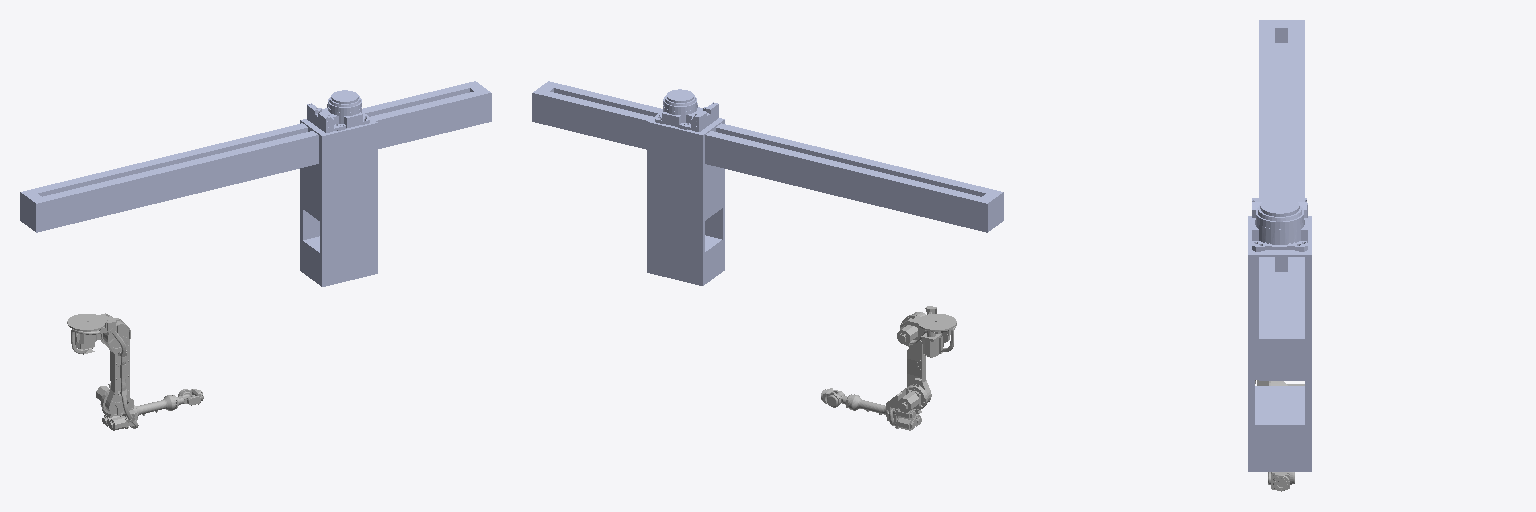
The robot description file, URDF, robot "urdf_shimizu_gantry":
<?xml version="1.0" encoding="utf-8"?>
<!-- This URDF was automatically created by SolidWorks to URDF Exporter! Originally created by [author] ([email redacted]) 
     Commit Version: 1.6.0-4-g7f85cfe  Build Version: 1.6.7995.38578
     For more information, please see http://wiki.ros.org/sw_urdf_exporter -->
<robot
  name="urdf_shimizu_gantry">
  <link
    name="structure">
    <inertial>
      <origin
        xyz="4.02864523689272 4.68594983260276 1.12811003412139"
        rpy="0 0 0" />
      <mass
        value="12293.2154089237" />
      <inertia
        ixx="64315.9848906651"
        ixy="4.72802642796216E-12"
        ixz="2.09421886683001E-13"
        iyy="45881.0476516664"
        iyz="-0.00250051596600884"
        izz="107061.453631579" />
    </inertial>
    <visual>
      <origin
        xyz="0 0 0"
        rpy="0 0 0" />
      <geometry>
        <mesh
          filename="package://urdf_shimizu_gantry/meshes/structure.STL" />
      </geometry>
      <material
        name="">
        <color
          rgba="0.792156862745098 0.819607843137255 0.933333333333333 1" />
      </material>
    </visual>
    <collision>
      <origin
        xyz="0 0 0"
        rpy="0 0 0" />
      <geometry>
        <mesh
          filename="package://urdf_shimizu_gantry/meshes/structure.STL" />
      </geometry>
    </collision>
  </link>
  <link
    name="x_rail">
    <inertial>
      <origin
        xyz="3.01867903369415 0.184 0.171530993197756"
        rpy="0 0 0" />
      <mass
        value="740.030344861601" />
      <inertia
        ixx="17.0621024004927"
        ixy="2.83241688155883E-14"
        ixz="0.00203895408136847"
        iyy="2278.62582732281"
        iyz="1.76239718774695E-15"
        izz="2279.87804604228" />
    </inertial>
    <visual>
      <origin
        xyz="0 0 0"
        rpy="0 0 0" />
      <geometry>
        <mesh
          filename="package://urdf_shimizu_gantry/meshes/x_rail.STL" />
      </geometry>
      <material
        name="">
        <color
          rgba="0.792156862745098 0.819607843137255 0.933333333333333 1" />
      </material>
    </visual>
    <collision>
      <origin
        xyz="0 0 0"
        rpy="0 0 0" />
      <geometry>
        <mesh
          filename="package://urdf_shimizu_gantry/meshes/x_rail.STL" />
      </geometry>
    </collision>
  </link>
  <joint
    name="joint_structure_rail"
    type="prismatic">
    <origin
      xyz="1.0082 1.4226 3.7013"
      rpy="0 0 0" />
    <parent
      link="structure" />
    <child
      link="x_rail" />
    <axis
      xyz="0 1 0" />
    <limit
      lower="0"
      upper="6.1489"
      effort="0"
      velocity="2" />
  </joint>
  <link
    name="carriage">
    <inertial>
      <origin
        xyz="-0.0767885383850957 3.25158768843536E-06 -0.810755943086886"
        rpy="0 0 0" />
      <mass
        value="645.325992510266" />
      <inertia
        ixx="213.993771610598"
        ixy="-0.000780635487259871"
        ixz="-0.122391995606642"
        iyy="227.813506683219"
        iyz="0.000563037885594549"
        izz="42.4394302914655" />
    </inertial>
    <visual>
      <origin
        xyz="0 0 0"
        rpy="0 0 0" />
      <geometry>
        <mesh
          filename="package://urdf_shimizu_gantry/meshes/carriage.STL" />
      </geometry>
      <material
        name="">
        <color
          rgba="0.792156862745098 0.819607843137255 0.933333333333333 1" />
      </material>
    </visual>
    <collision>
      <origin
        xyz="0 0 0"
        rpy="0 0 0" />
      <geometry>
        <mesh
          filename="package://urdf_shimizu_gantry/meshes/carriage.STL" />
      </geometry>
    </collision>
  </link>
  <joint
    name="joint_rail_carriage"
    type="prismatic">
    <origin
      xyz="0.77533 0.184 -1.1204"
      rpy="3.1416 0 0" />
    <parent
      link="x_rail" />
    <child
      link="carriage" />
    <axis
      xyz="-1 0 0" />
    <limit
      lower="0"
      upper="4.6411"
      effort="0"
      velocity="2" />
  </joint>
  <link
    name="link_1">
    <inertial>
      <origin
        xyz="0.153855773577067 -0.0108391686999965 0.14545822040491"
        rpy="0 0 0" />
      <mass
        value="39.4879875307153" />
      <inertia
        ixx="0.824149711926212"
        ixy="-0.138842015880573"
        ixz="-0.162656036308918"
        iyy="1.53073509987707"
        iyz="0.0860291058897645"
        izz="1.62356171854091" />
    </inertial>
    <visual>
      <origin
        xyz="0 0 0"
        rpy="0 0 0" />
      <geometry>
        <mesh
          filename="package://urdf_shimizu_gantry/meshes/link_1.STL" />
      </geometry>
      <material
        name="">
        <color
          rgba="0.752941176470588 0.752941176470588 0.752941176470588 1" />
      </material>
    </visual>
    <collision>
      <origin
        xyz="0 0 0"
        rpy="0 0 0" />
      <geometry>
        <mesh
          filename="package://urdf_shimizu_gantry/meshes/link_1.STL" />
      </geometry>
    </collision>
  </link>
  <joint
    name="joint_1"
    type="continuous">
    <origin
      xyz="0 0 0.2635"
      rpy="0 0 0.0062665" />
    <parent
      link="carriage" />
    <child
      link="link_1" />
    <axis
      xyz="0 0 1" />
    <limit
      lower="0"
      upper="6.28"
      effort="0"
      velocity="2.97" />
  </joint>
  <link
    name="link_2">
    <inertial>
      <origin
        xyz="0.020077813377676 0.0560459059507608 0.394357513309894"
        rpy="0 0 0" />
      <mass
        value="26.2236990697048" />
      <inertia
        ixx="2.76302886204916"
        ixy="-0.0029336984886039"
        ixz="-0.0192637719147364"
        iyy="2.85009084274849"
        iyz="-0.0316903714210222"
        izz="0.156036556588808" />
    </inertial>
    <visual>
      <origin
        xyz="0 0 0"
        rpy="0 0 0" />
      <geometry>
        <mesh
          filename="package://urdf_shimizu_gantry/meshes/link_2.STL" />
      </geometry>
      <material
        name="">
        <color
          rgba="0.752941176470588 0.752941176470588 0.752941176470588 1" />
      </material>
    </visual>
    <collision>
      <origin
        xyz="0 0 0"
        rpy="0 0 0" />
      <geometry>
        <mesh
          filename="package://urdf_shimizu_gantry/meshes/link_2.STL" />
      </geometry>
    </collision>
  </link>
  <joint
    name="joint_2"
    type="continuous">
    <origin
      xyz="0.32 0.08996 0.1865"
      rpy="0 0 0" />
    <parent
      link="link_1" />
    <child
      link="link_2" />
    <axis
      xyz="0 1 0" />
    <limit
      lower="0"
      upper="4.28"
      effort="0"
      velocity="2.44" />
  </joint>
  <link
    name="link_3">
    <inertial>
      <origin
        xyz="0.170898646752524 -0.091062342216772 0.134410265708193"
        rpy="0 0 0" />
      <mass
        value="41.0689199450586" />
      <inertia
        ixx="0.945895108155531"
        ixy="-0.00969241760289385"
        ixz="-0.499722255629703"
        iyy="2.69220328758168"
        iyz="-0.0244441336676499"
        izz="2.29076140111484" />
    </inertial>
    <visual>
      <origin
        xyz="0 0 0"
        rpy="0 0 0" />
      <geometry>
        <mesh
          filename="package://urdf_shimizu_gantry/meshes/link_3.STL" />
      </geometry>
      <material
        name="">
        <color
          rgba="0.752941176470588 0.752941176470588 0.752941176470588 1" />
      </material>
    </visual>
    <collision>
      <origin
        xyz="0 0 0"
        rpy="0 0 0" />
      <geometry>
        <mesh
          filename="package://urdf_shimizu_gantry/meshes/link_3.STL" />
      </geometry>
    </collision>
  </link>
  <joint
    name="joint_3"
    type="continuous">
    <origin
      xyz="0 -0.00496 0.87"
      rpy="0 0 0" />
    <parent
      link="link_2" />
    <child
      link="link_3" />
    <axis
      xyz="0 1 0" />
    <limit
      lower="0"
      upper="6.28"
      effort="0"
      velocity="2.79" />
  </joint>
  <link
    name="link_4">
    <inertial>
      <origin
        xyz="0.0956311013862567 -0.00268842106149214 -7.12992390861089E-06"
        rpy="0 0 0" />
      <mass
        value="2.00706266186349" />
      <inertia
        ixx="0.00389327540269091"
        ixy="0.00064975423626537"
        ixz="8.26409373694784E-07"
        iyy="0.0133247237607867"
        iyz="-4.74277197034284E-07"
        izz="0.0133817828168185" />
    </inertial>
    <visual>
      <origin
        xyz="0 0 0"
        rpy="0 0 0" />
      <geometry>
        <mesh
          filename="package://urdf_shimizu_gantry/meshes/link_4.STL" />
      </geometry>
      <material
        name="">
        <color
          rgba="0.752941176470588 0.752941176470588 0.752941176470588 1" />
      </material>
    </visual>
    <collision>
      <origin
        xyz="0 0 0"
        rpy="0 0 0" />
      <geometry>
        <mesh
          filename="package://urdf_shimizu_gantry/meshes/link_4.STL" />
      </geometry>
    </collision>
  </link>
  <joint
    name="joint_4"
    type="continuous">
    <origin
      xyz="0.82052 -0.085 0.225"
      rpy="0 0 0" />
    <parent
      link="link_3" />
    <child
      link="link_4" />
    <axis
      xyz="1 0 0" />
    <limit
      lower="0"
      upper="12.57"
      effort="0"
      velocity="4.01" />
  </joint>
  <link
    name="link_5">
    <inertial>
      <origin
        xyz="0.050878018195565 0.0284723314407811 -5.41222622274518E-11"
        rpy="0 0 0" />
      <mass
        value="3.64087786116007" />
      <inertia
        ixx="0.0192001204191004"
        ixy="-0.00452880493617186"
        ixz="-3.95847828974483E-12"
        iyy="0.0195762180673155"
        iyz="-1.42922407696642E-13"
        izz="0.0288833593415117" />
    </inertial>
    <visual>
      <origin
        xyz="0 0 0"
        rpy="0 0 0" />
      <geometry>
        <mesh
          filename="package://urdf_shimizu_gantry/meshes/link_5.STL" />
      </geometry>
      <material
        name="">
        <color
          rgba="0.752941176470588 0.752941176470588 0.752941176470588 1" />
      </material>
    </visual>
    <collision>
      <origin
        xyz="0 0 0"
        rpy="0 0 0" />
      <geometry>
        <mesh
          filename="package://urdf_shimizu_gantry/meshes/link_5.STL" />
      </geometry>
    </collision>
  </link>
  <joint
    name="joint_5"
    type="continuous">
    <origin
      xyz="0.1945 -0.04579 0"
      rpy="0 0 0" />
    <parent
      link="link_4" />
    <child
      link="link_5" />
    <axis
      xyz="0 1 0" />
    <limit
      lower="0"
      upper="4.36"
      effort="0"
      velocity="4.01" />
  </joint>
  <link
    name="link_6">
    <inertial>
      <origin
        xyz="-0.0115315270371852 2.20242441926199E-05 0"
        rpy="0 0 0" />
      <mass
        value="0.227022546438295" />
      <inertia
        ixx="0.000438850422148637"
        ixy="3.98423648141008E-08"
        ixz="6.94392741721848E-21"
        iyy="0.000228564265416646"
        iyz="-9.81235572213125E-21"
        izz="0.00022782098747856" />
    </inertial>
    <visual>
      <origin
        xyz="0 0 0"
        rpy="0 0 0" />
      <geometry>
        <mesh
          filename="package://urdf_shimizu_gantry/meshes/link_6.STL" />
      </geometry>
      <material
        name="">
        <color
          rgba="0.752941176470588 0.752941176470588 0.752941176470588 1" />
      </material>
    </visual>
    <collision>
      <origin
        xyz="0 0 0"
        rpy="0 0 0" />
      <geometry>
        <mesh
          filename="package://urdf_shimizu_gantry/meshes/link_6.STL" />
      </geometry>
    </collision>
  </link>
  <joint
    name="joint_6"
    type="continuous">
    <origin
      xyz="0.175 0.0422 0"
      rpy="0 0 0" />
    <parent
      link="link_5" />
    <child
      link="link_6" />
    <axis
      xyz="1 0 0" />
    <limit
      lower="0"
      upper="12.57"
      effort="0"
      velocity="6.11" />
  </joint>
</robot>

--- Render facts (derived) ---
3 views of the same robot in one strip: view 1: azimuth 30°, elevation 25°; view 2: azimuth 150°, elevation 25°; view 3: azimuth 270°, elevation 25° (orthographic).
Model urdf_shimizu_gantry with 9 links and 8 joints (6 continuous, 2 prismatic), rooted at structure, posed all joints at 0.
Visible links, largest first — view 1: x_rail, carriage, link_2, link_1, link_3; view 2: x_rail, carriage, link_1, link_3, link_2; view 3: x_rail, carriage.
Boxes of the visible links, x1=… form: x_rail: x1=20, y1=81, x2=491, y2=232; carriage: x1=300, y1=90, x2=377, y2=286; link_2: x1=103, y1=321, x2=130, y2=415; link_1: x1=67, y1=313, x2=124, y2=354; link_3: x1=96, y1=386, x2=176, y2=430; x_rail: x1=532, y1=81, x2=1003, y2=232; carriage: x1=647, y1=89, x2=724, y2=285; link_1: x1=897, y1=306, x2=956, y2=357; link_3: x1=848, y1=384, x2=927, y2=430; link_2: x1=906, y1=312, x2=931, y2=401; x_rail: x1=1259, y1=20, x2=1304, y2=380; carriage: x1=1248, y1=197, x2=1311, y2=471.
Bounding box of the posed robot: 6.04 × 0.5195 × 3.5 m (x, y, z).
8 mesh visuals loaded from 9 distinct referenced files (8 binary STL); not drawn: 1 (reference not matched to a file when rendering).
